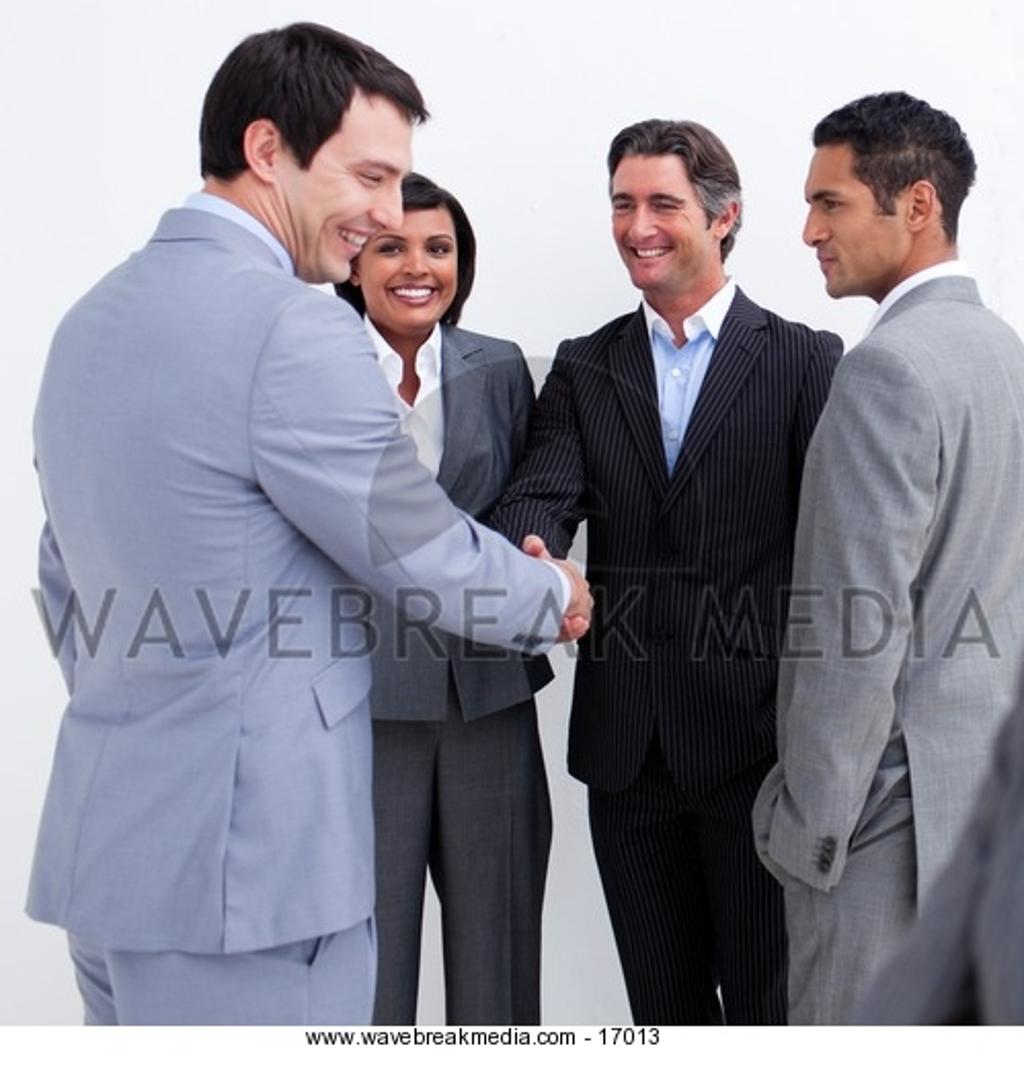face: (282, 90, 407, 282), (805, 146, 901, 296), (611, 154, 709, 290), (359, 198, 459, 329)
